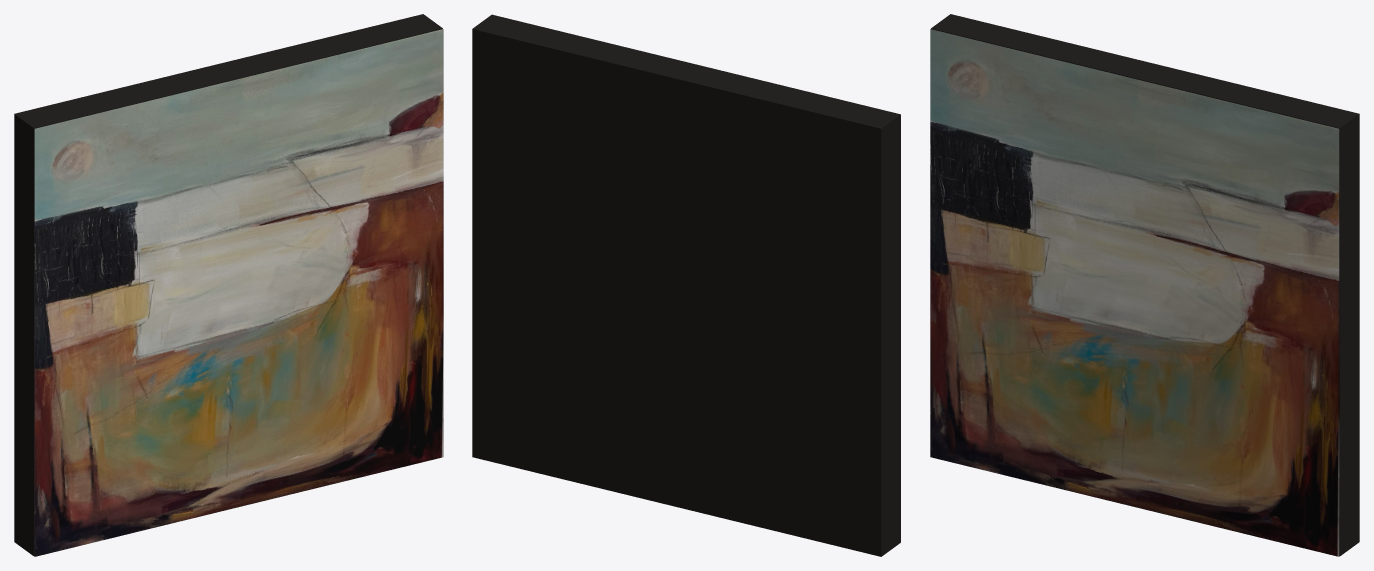
File: img_5667.glb
The picture shows the model from 3 angles, left to right: view 1: azimuth 30°, elevation 25°; view 2: azimuth 150°, elevation 25°; view 3: azimuth 330°, elevation 25°; orthographic projection.
Size of the model in its own units: 0.3048 by 0.3048 by 0.0264.
2 materials, 1 textured.
